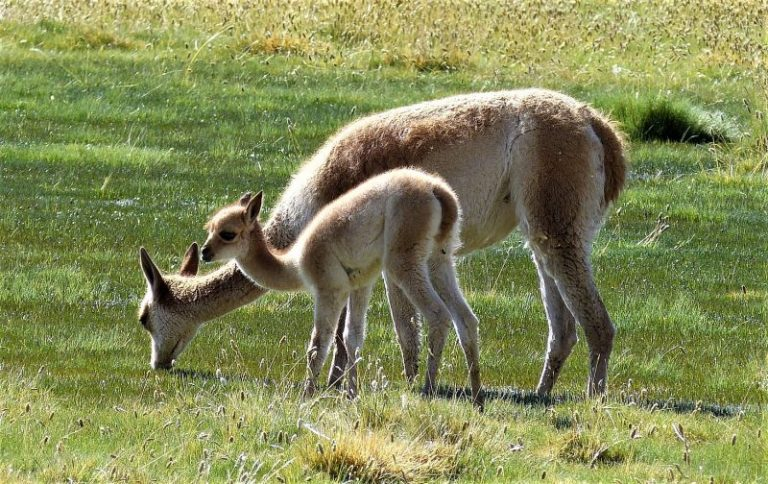eye: (217, 224, 239, 246)
mouth: (139, 356, 182, 372), (196, 248, 223, 265)
